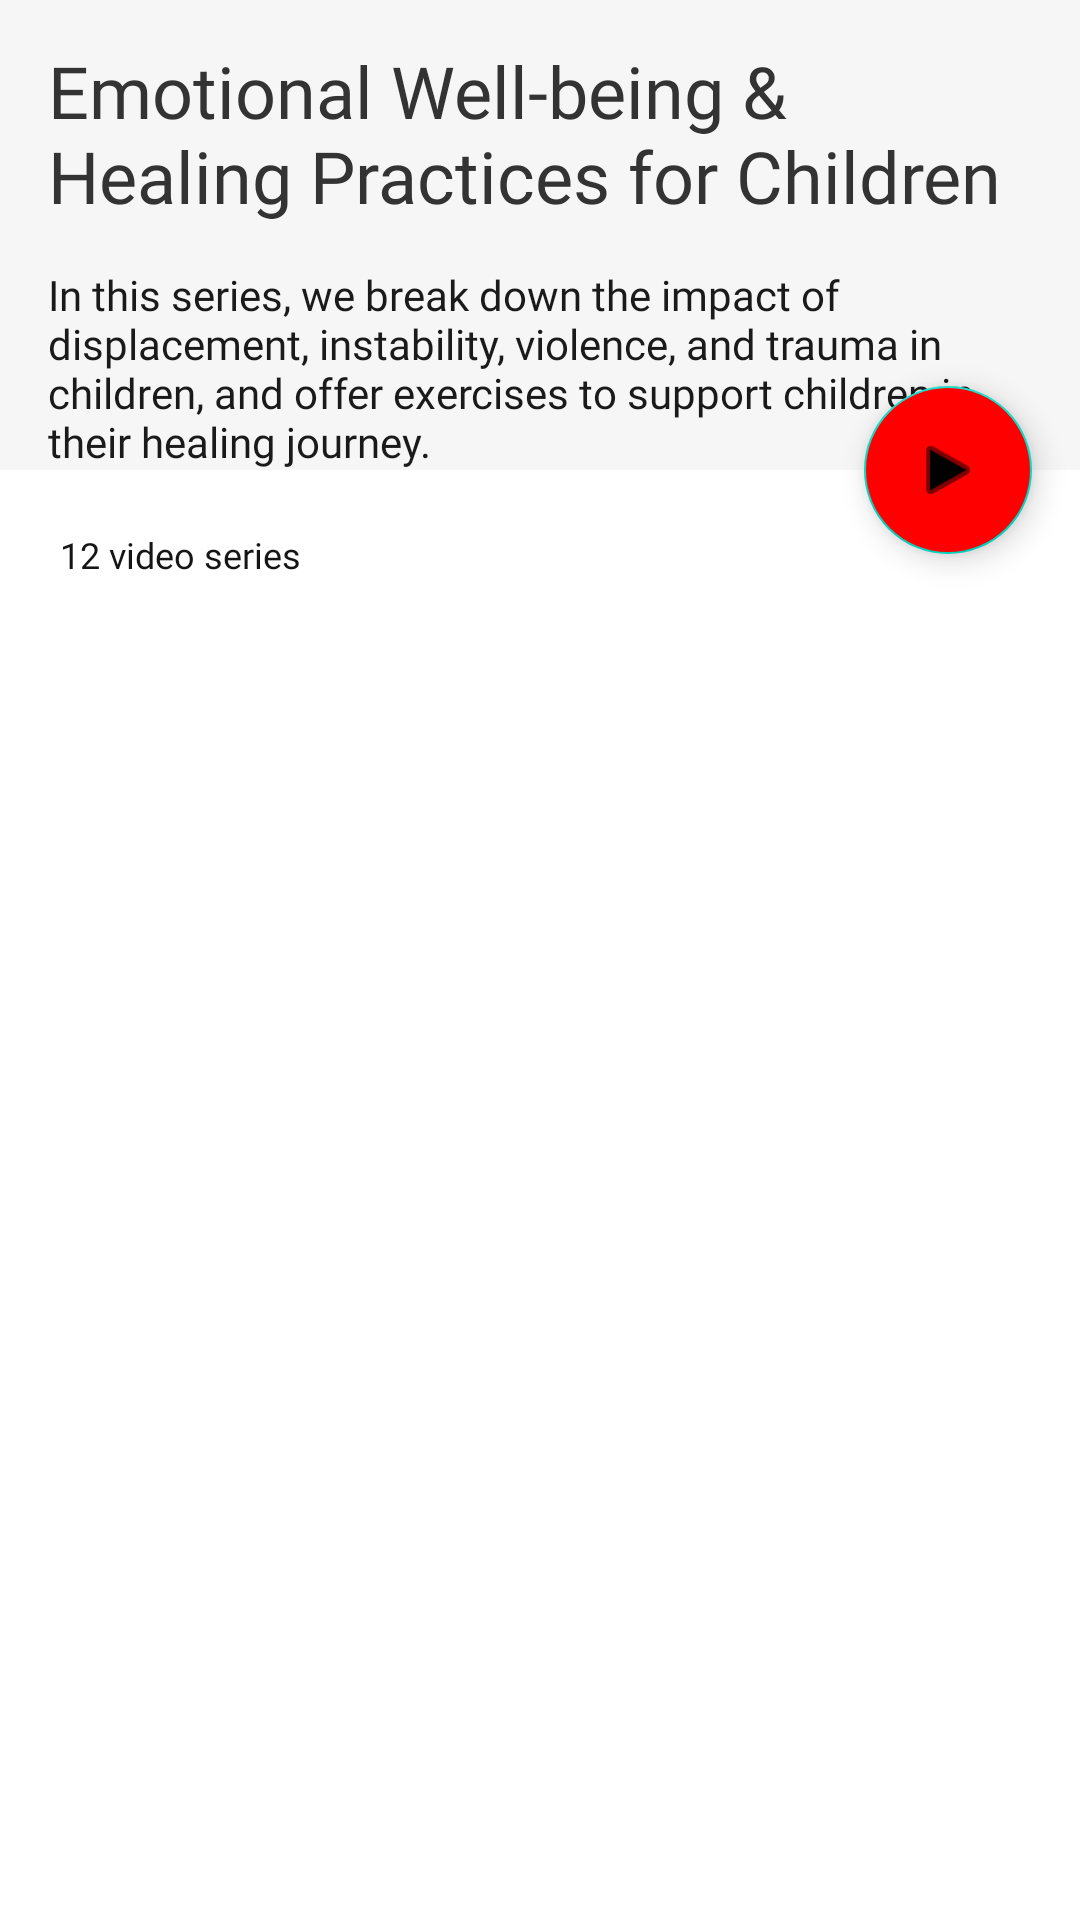

Point at icon controls on the screen. Image size 1080px x 1920px, points as (x=x, y=y).
play: (x=948, y=470)
